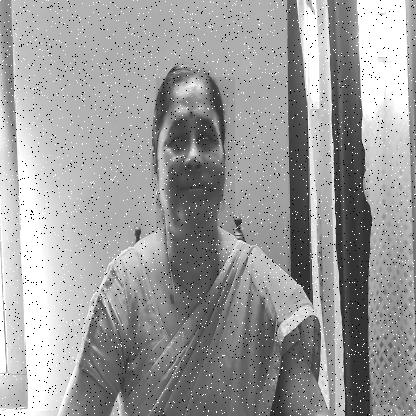Normal: (156, 78, 235, 242)
